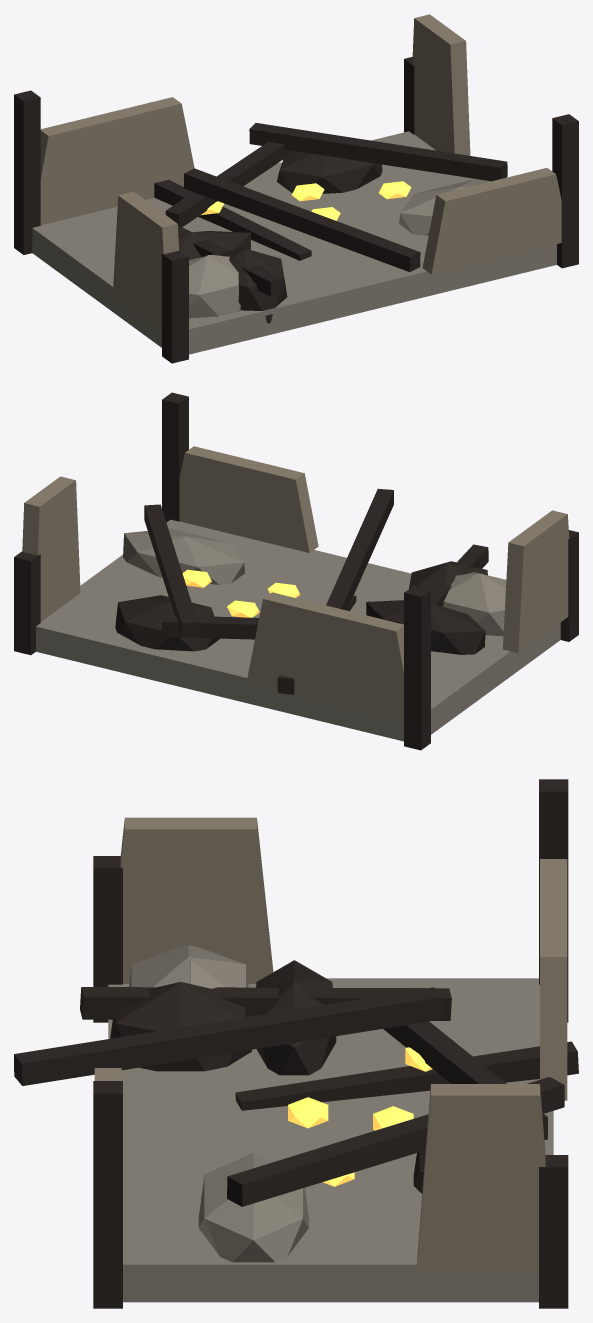
File: Dorf_Stall_Ruine.fbx
3 renders of one model, top to bottom at view 1: azimuth 30°, elevation 25°; view 2: azimuth 150°, elevation 25°; view 3: azimuth 270°, elevation 25°, orthographic. The views are drawn at different scales.
Visible parts, largest first — view 1: Dorf_Stall_Ruine; view 2: Dorf_Stall_Ruine; view 3: Dorf_Stall_Ruine.
Boxes of the visible parts, x1,y1,x2,y2 form: Dorf_Stall_Ruine: (14,14,578,363); Dorf_Stall_Ruine: (14,392,578,750); Dorf_Stall_Ruine: (14,779,578,1308).
Size of the model in its own units: 5.74 by 2.15 by 4.59.
